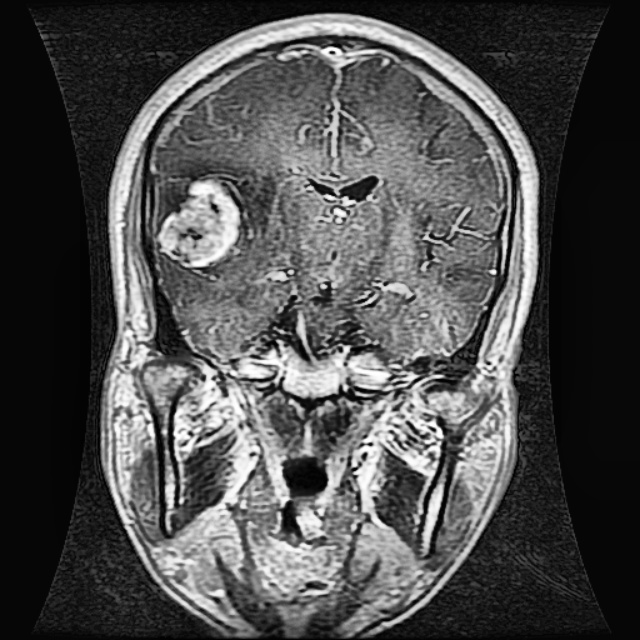Meningioma: (152, 175, 252, 269)
